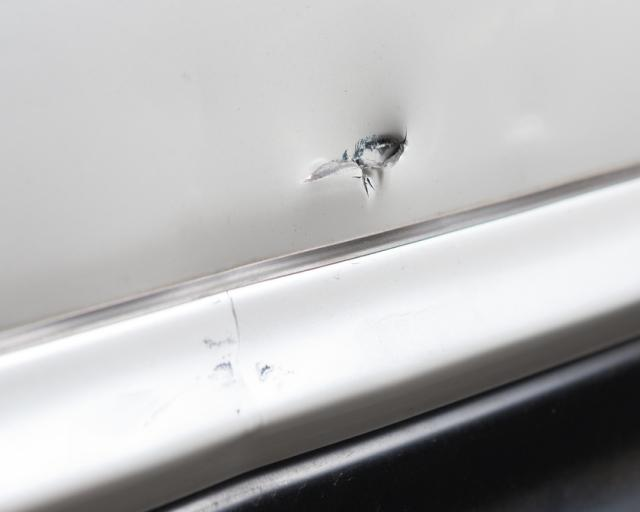dent: (298, 125, 410, 203)
